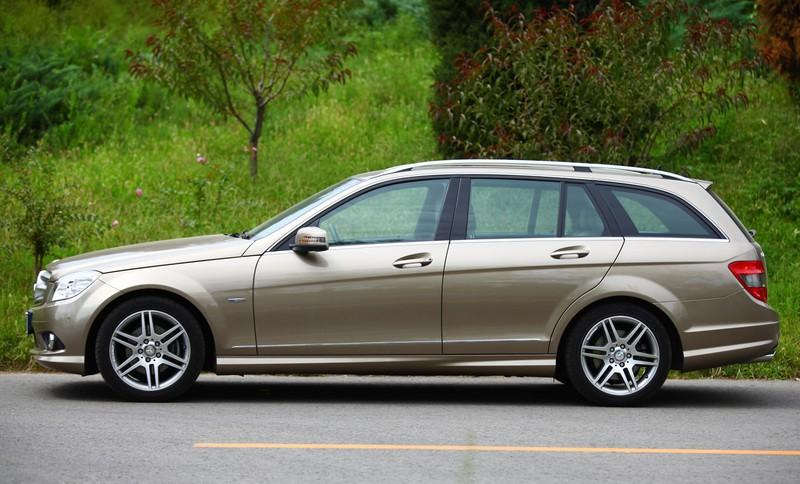Wagon: (29, 158, 782, 406)
